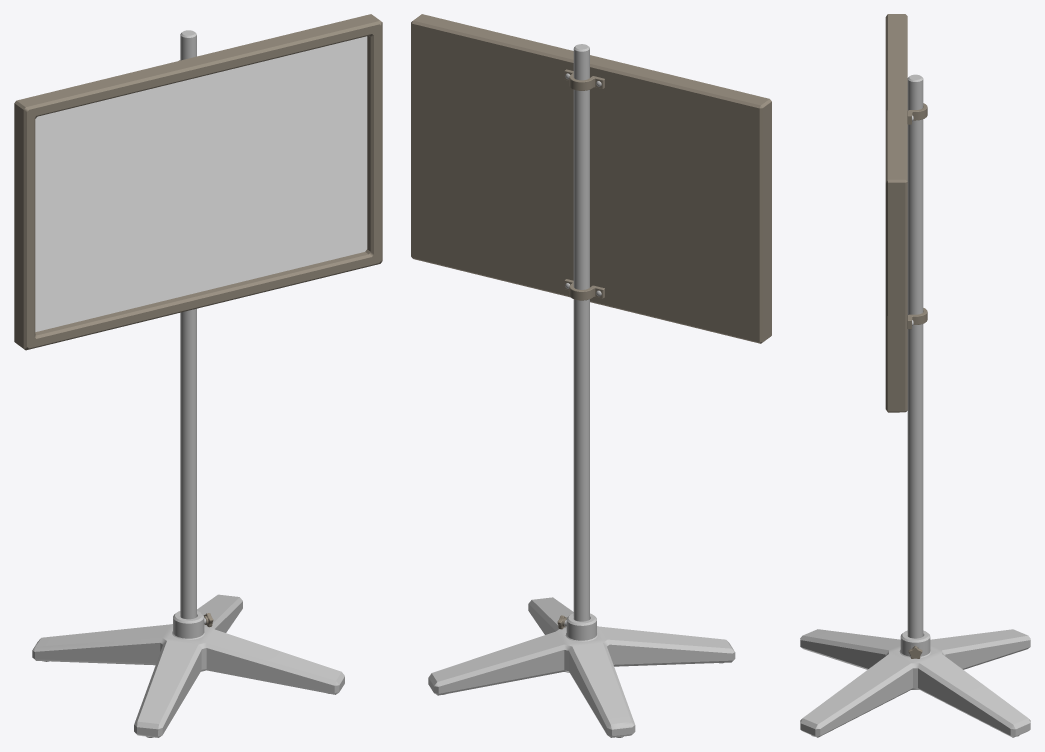
File: Sign_Var1.fbx
3 renders of one model, left to right at view 1: azimuth 30°, elevation 25°; view 2: azimuth 150°, elevation 25°; view 3: azimuth 270°, elevation 25°, orthographic. The views are drawn at different scales.
Visible parts, largest first — view 1: msh_Sign_MessageArea_Mesh1, msh_Sign_PlasticParts_Mesh1, msh_Sign_MetalParts_Mesh1; view 2: msh_Sign_PlasticParts_Mesh1, msh_Sign_MetalParts_Mesh1; view 3: msh_Sign_MetalParts_Mesh1, msh_Sign_PlasticParts_Mesh1.
Boxes of the visible parts, x1,y1,x2,y2 form: msh_Sign_MessageArea_Mesh1: (35,36,367,331); msh_Sign_PlasticParts_Mesh1: (14,14,382,627); msh_Sign_MetalParts_Mesh1: (32,30,344,737); msh_Sign_PlasticParts_Mesh1: (411,14,771,629); msh_Sign_MetalParts_Mesh1: (428,44,735,737); msh_Sign_MetalParts_Mesh1: (800,74,1030,737); msh_Sign_PlasticParts_Mesh1: (885,14,927,658).
Bounding box in the file's own units: 0.8585 × 1.47 × 0.4984.
